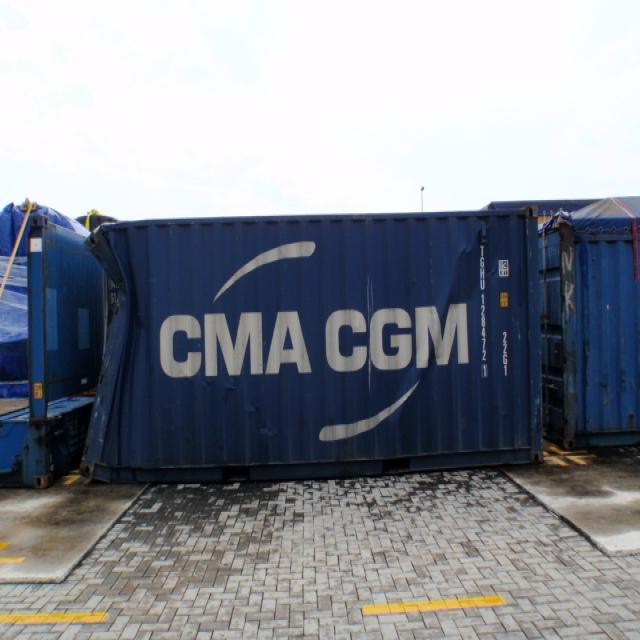dent: (423, 233, 496, 394), (78, 236, 127, 468), (124, 270, 143, 398), (259, 425, 274, 437), (225, 385, 241, 395), (207, 377, 219, 388), (251, 407, 264, 416)
